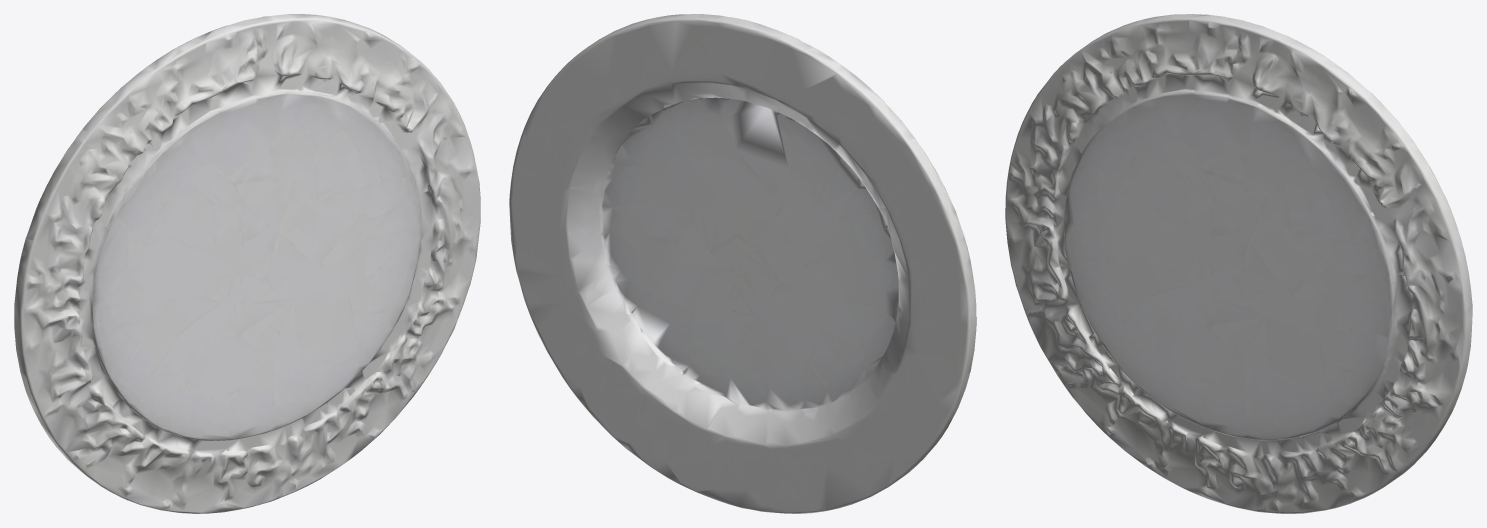
File: ceiling_light-fixture.glb
The picture shows the model from 3 angles, left to right: view 1: azimuth 30°, elevation 25°; view 2: azimuth 150°, elevation 25°; view 3: azimuth 330°, elevation 25°; orthographic projection.
Bounding box in the file's own units: 1.9 × 1.9 × 0.1066.
1 material, 1 textured.
